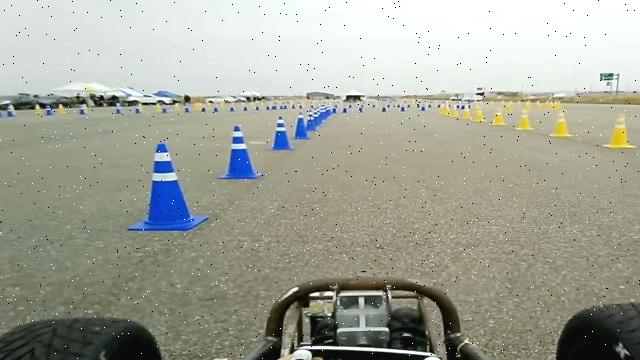blue cone: (128, 143, 208, 231), (217, 125, 262, 179), (270, 115, 294, 150), (292, 114, 310, 139)
yellow cone: (602, 112, 636, 149), (548, 111, 572, 137), (514, 111, 534, 131), (490, 108, 506, 125), (473, 105, 486, 122), (440, 102, 450, 115), (461, 108, 472, 119), (449, 108, 459, 117)
